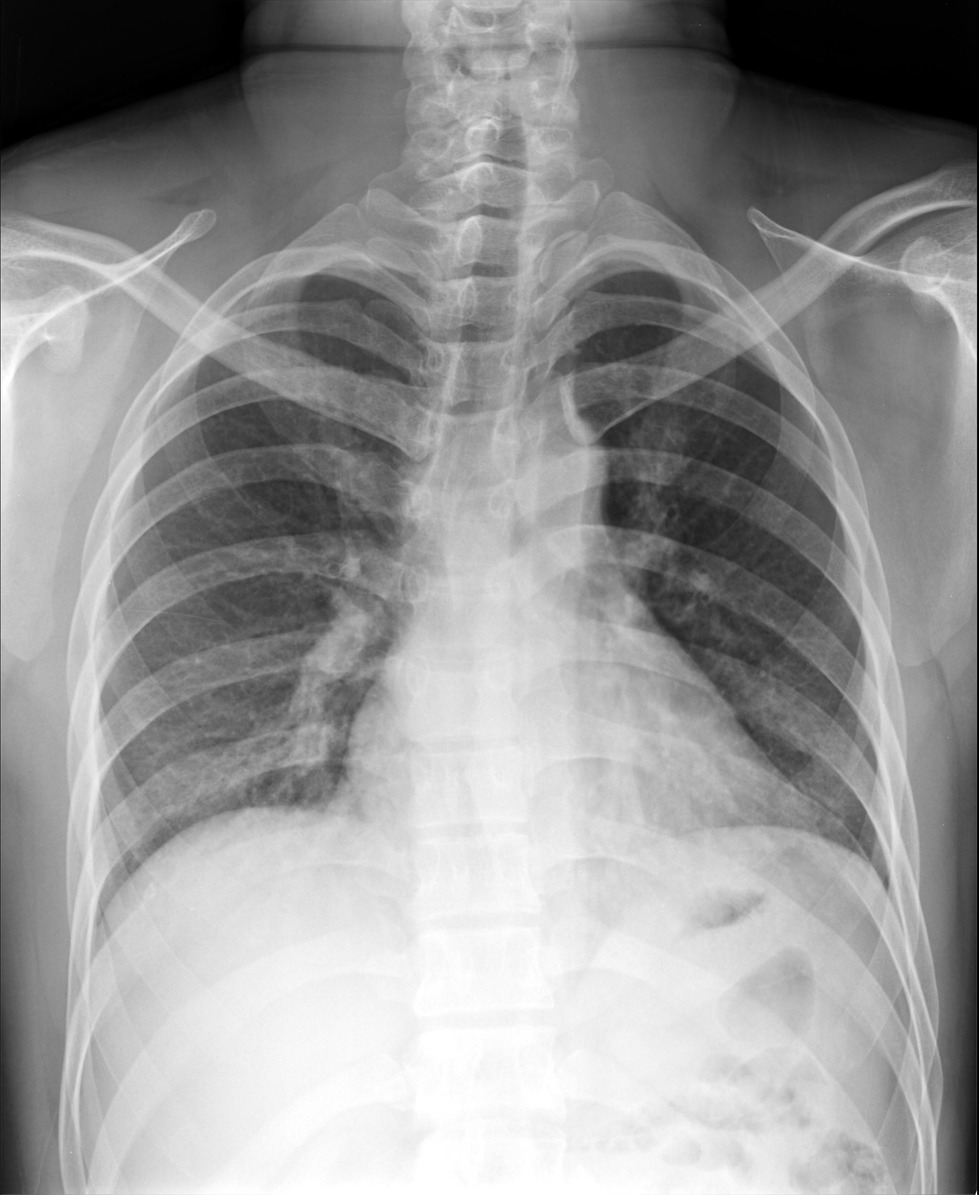Aortic enlargement: (488, 405, 610, 508)
Cardiomegaly: (342, 709, 816, 871)
